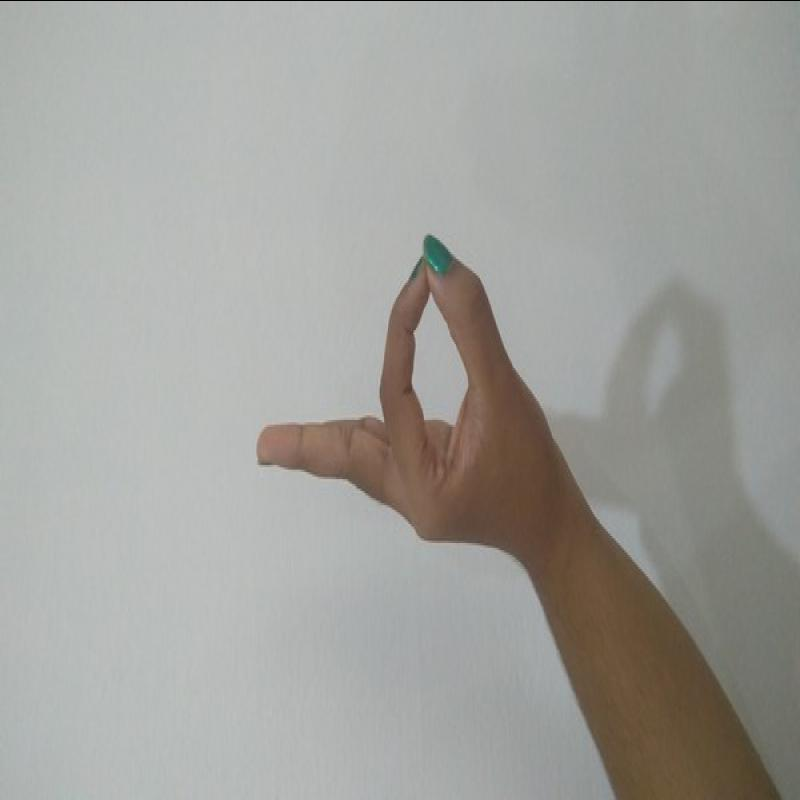Mudraakhyam: (238, 222, 575, 585)
